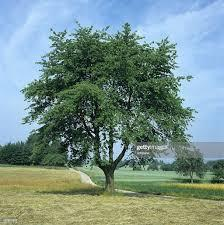tree: (19, 15, 201, 193)
